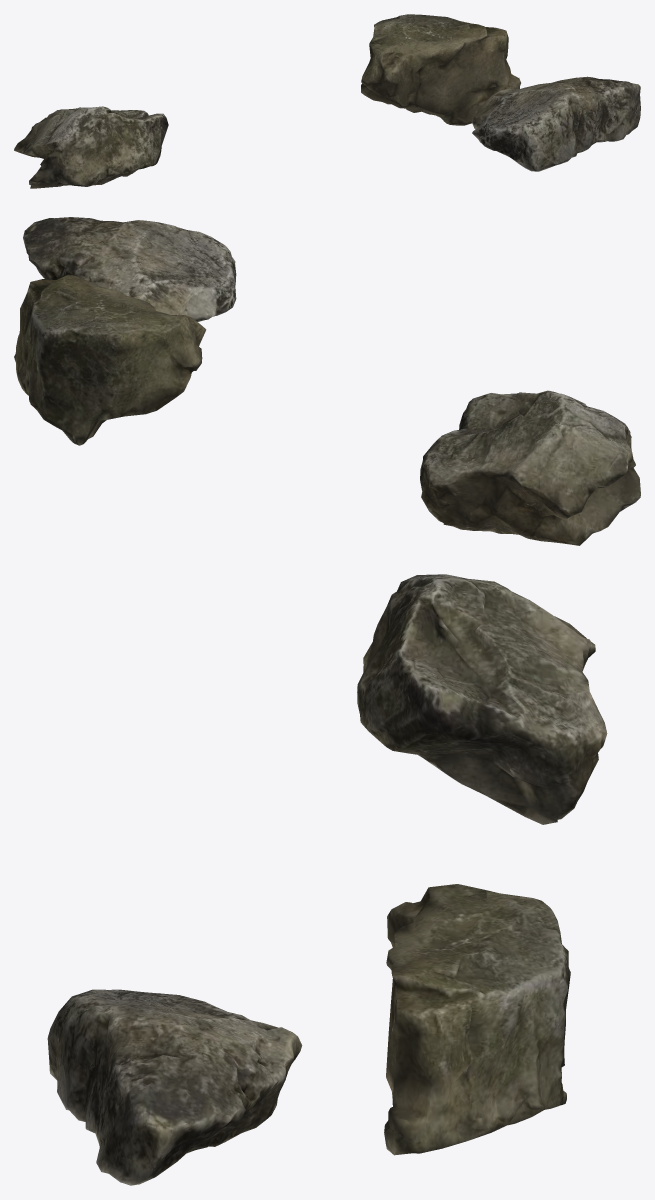
Rendered from stone_granite_set.glb.
3 renders of one model, top to bottom at view 1: azimuth 30°, elevation 25°; view 2: azimuth 150°, elevation 25°; view 3: azimuth 270°, elevation 25°, orthographic. The views are drawn at different scales.
Parts seen in each view (by area): view 1: stone_13, stone_10, stone_11; view 2: stone_11, stone_13, stone_10; view 3: stone_11, stone_13, stone_10.
Part boxes in pixels (x1,y1,x2,y2): stone_13: (361, 14, 520, 125); stone_10: (471, 76, 640, 171); stone_11: (14, 106, 168, 188); stone_11: (420, 390, 640, 545); stone_13: (14, 275, 206, 445); stone_10: (23, 217, 236, 321); stone_11: (357, 574, 607, 824); stone_13: (384, 884, 570, 1155); stone_10: (47, 989, 302, 1185).
Bounding box in the file's own units: 7.58 × 1.37 × 3.41.
1 material, 1 textured.
